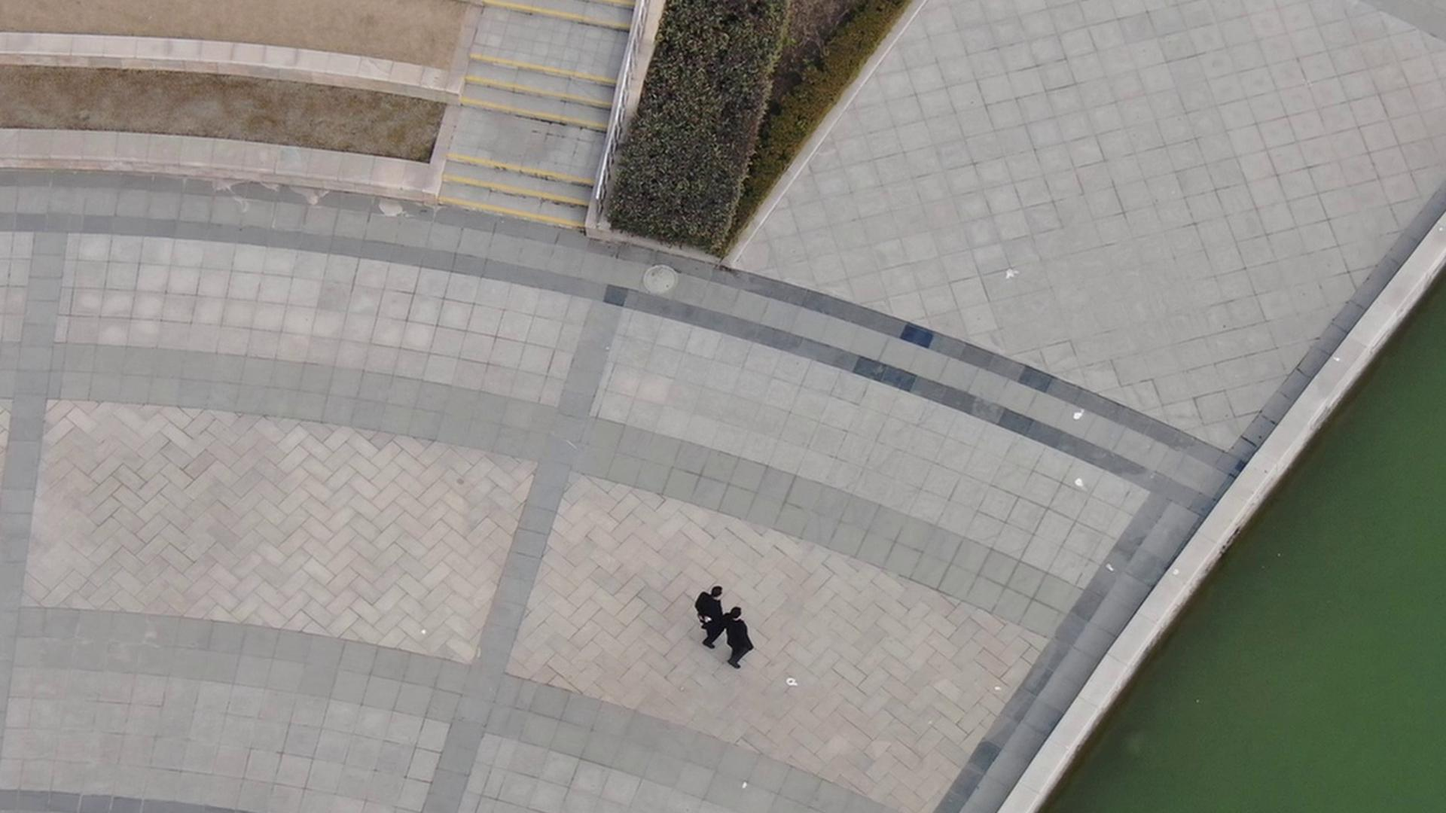human: (719, 601, 763, 681), (695, 583, 726, 668)
